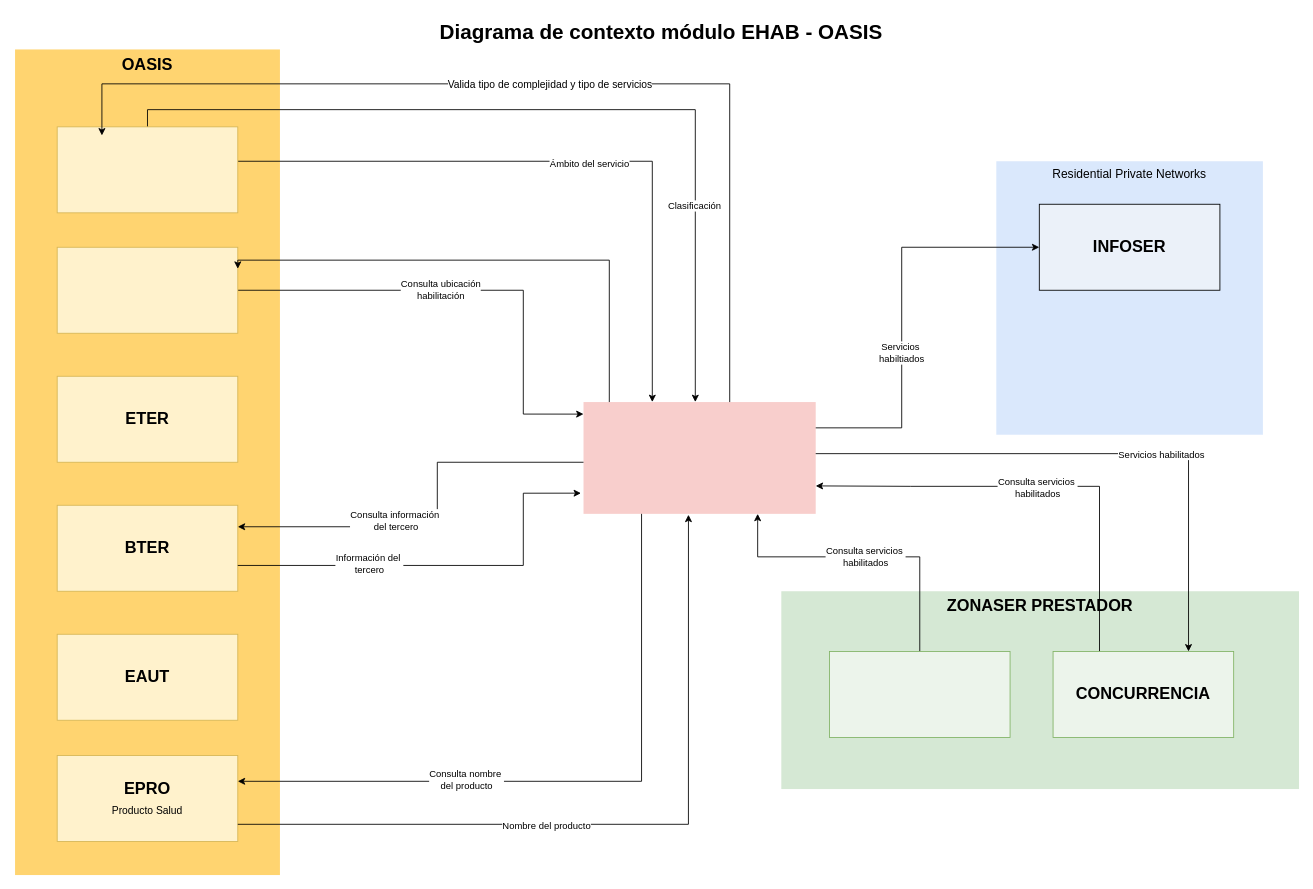
The diagram is 1313 pixels wide and 889 high, and some of its shapes have lost their labels. The shapes that lost their labels are listed below. From the top down, each one's centre as x and y in pixels, then its label:
(147,169): ECLA Clasificaciones Salud
(147,289): ECNC Contratos Prestación de Servicios
(699,457): MODULO EHAB Habilitación Prestadores
(919,694): REGISTRO SOLICITUDES
